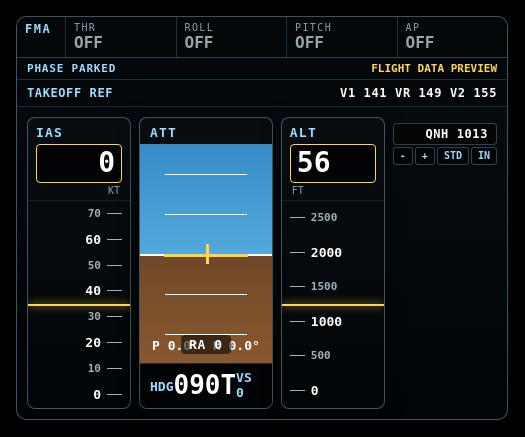
PFD barometric setting › STD toggles the annunciation both ways
Click the button with aria-label "Toggle standard pressure": (453, 156) x1=437 y1=147 x2=469 y2=165
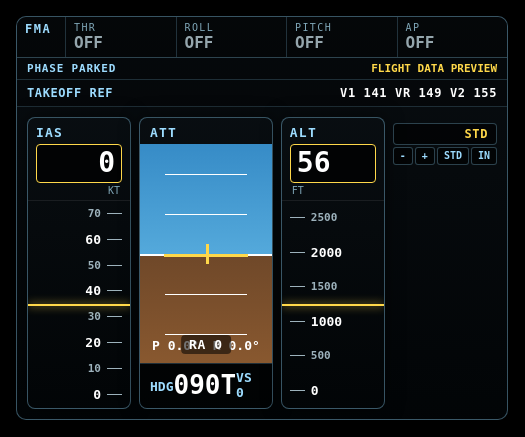
Check: the element named "Altimeter barometric setting" shows "STD", box x1=464 y1=127 x2=488 y2=141
Click the button with aria-label "Toggle standard pressure": (453, 156) x1=437 y1=147 x2=469 y2=165
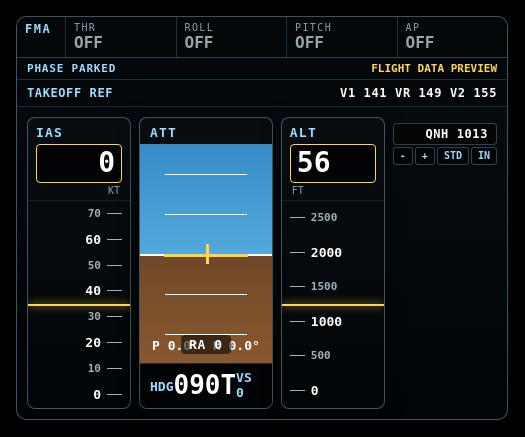
Check: the element named "Altimeter barometric setting" shows "QNH 1013", box x1=425 y1=127 x2=488 y2=141
